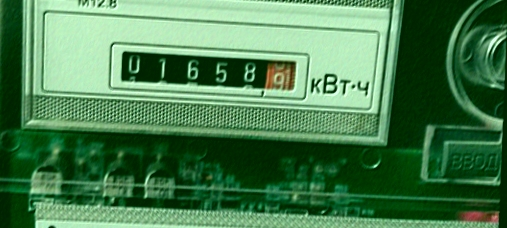0: (128, 53, 142, 75)
1: (158, 57, 169, 80)
5: (215, 61, 230, 84)
6: (186, 58, 201, 81)
8: (243, 61, 258, 83)
9: (270, 71, 285, 92)
screen: (103, 37, 317, 106)
